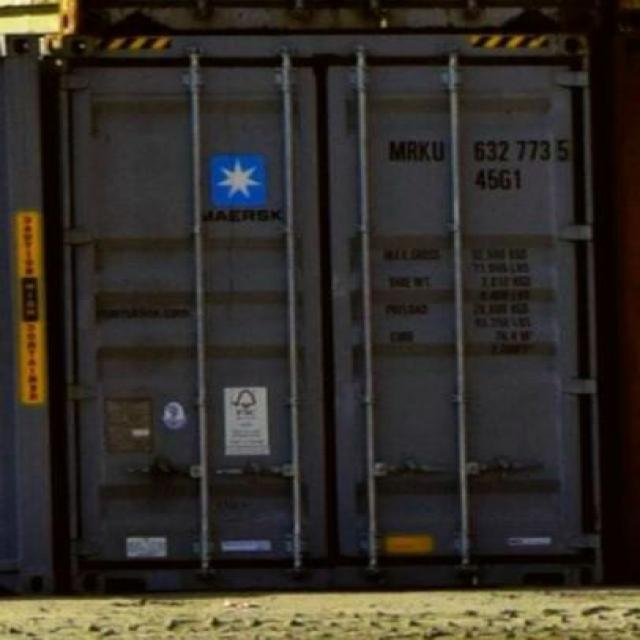ISO: (476, 166, 524, 192)
container_number: (396, 139, 565, 166)
